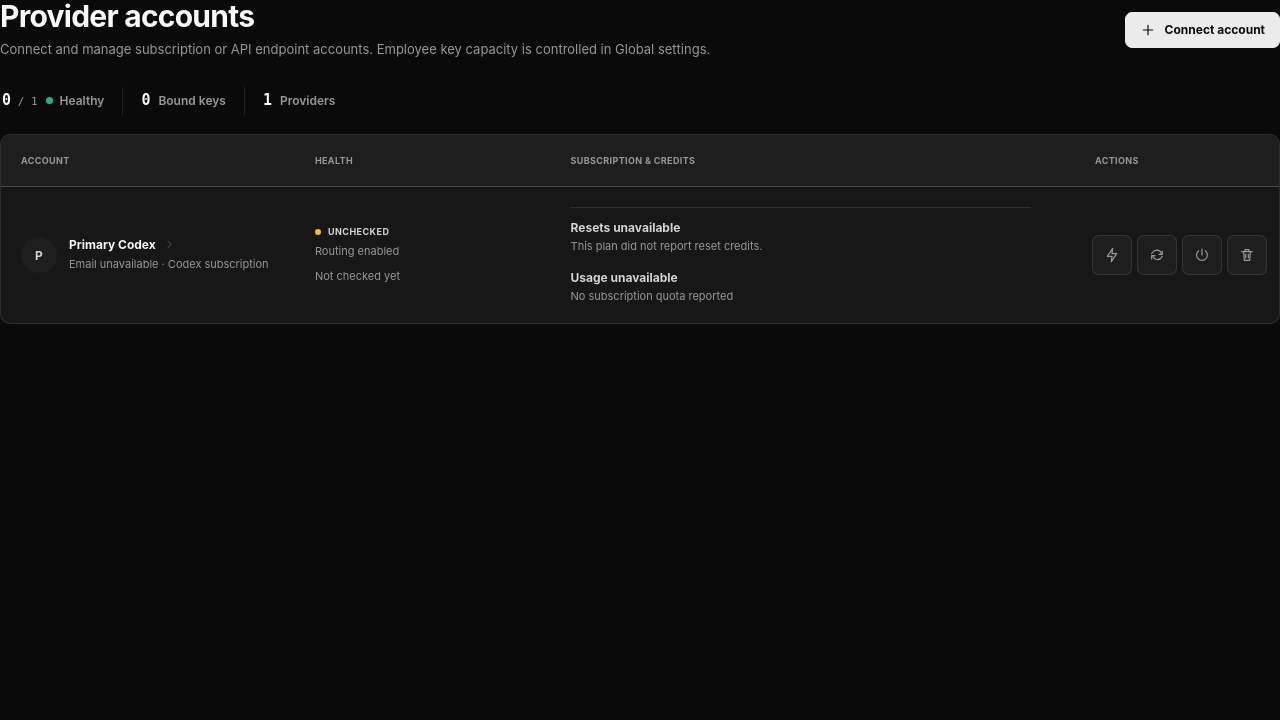
Scenario: Subpool console › opens the supported model list for an account
Click the button with aria-label "View supported models for Primary Codex": point(148, 255) [21,233,275,277]
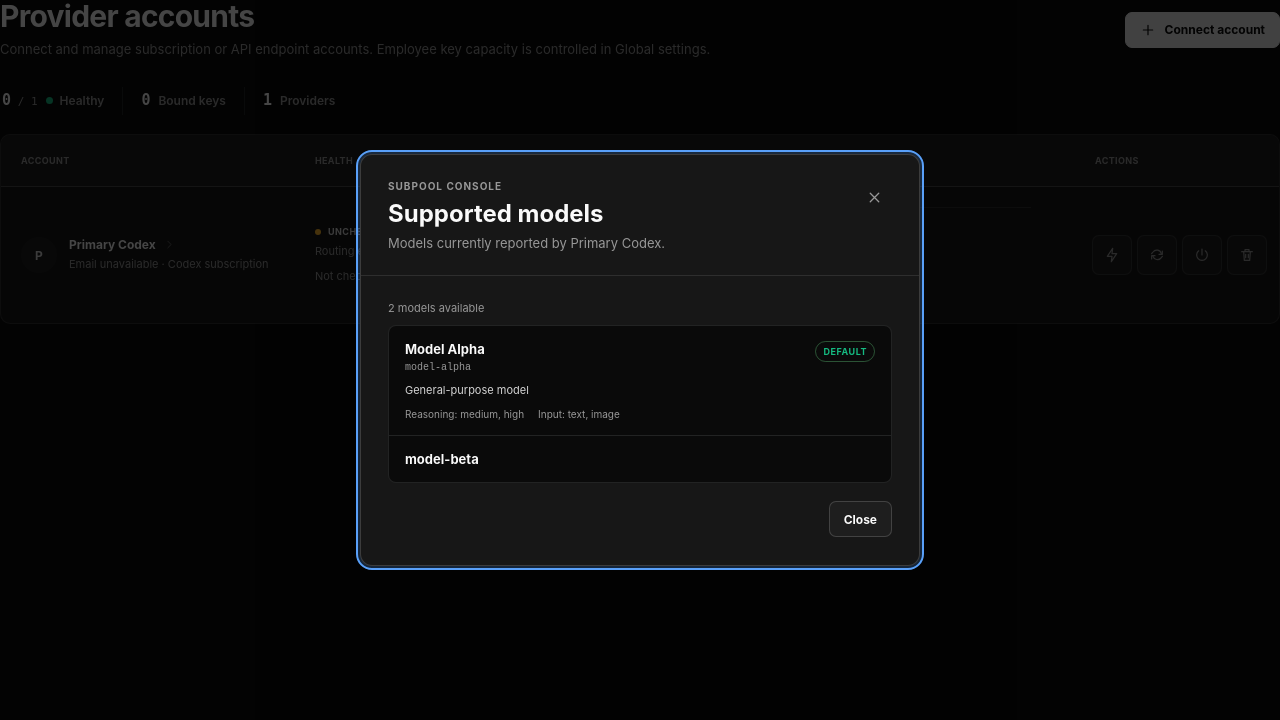
Check: the dialog "Supported models" is shown, box [360,154,920,566]
Check: the text "2 models available" is shown, box [388,301,484,315]
Check: the text "Model Alpha" is shown, box [405,341,485,357]
